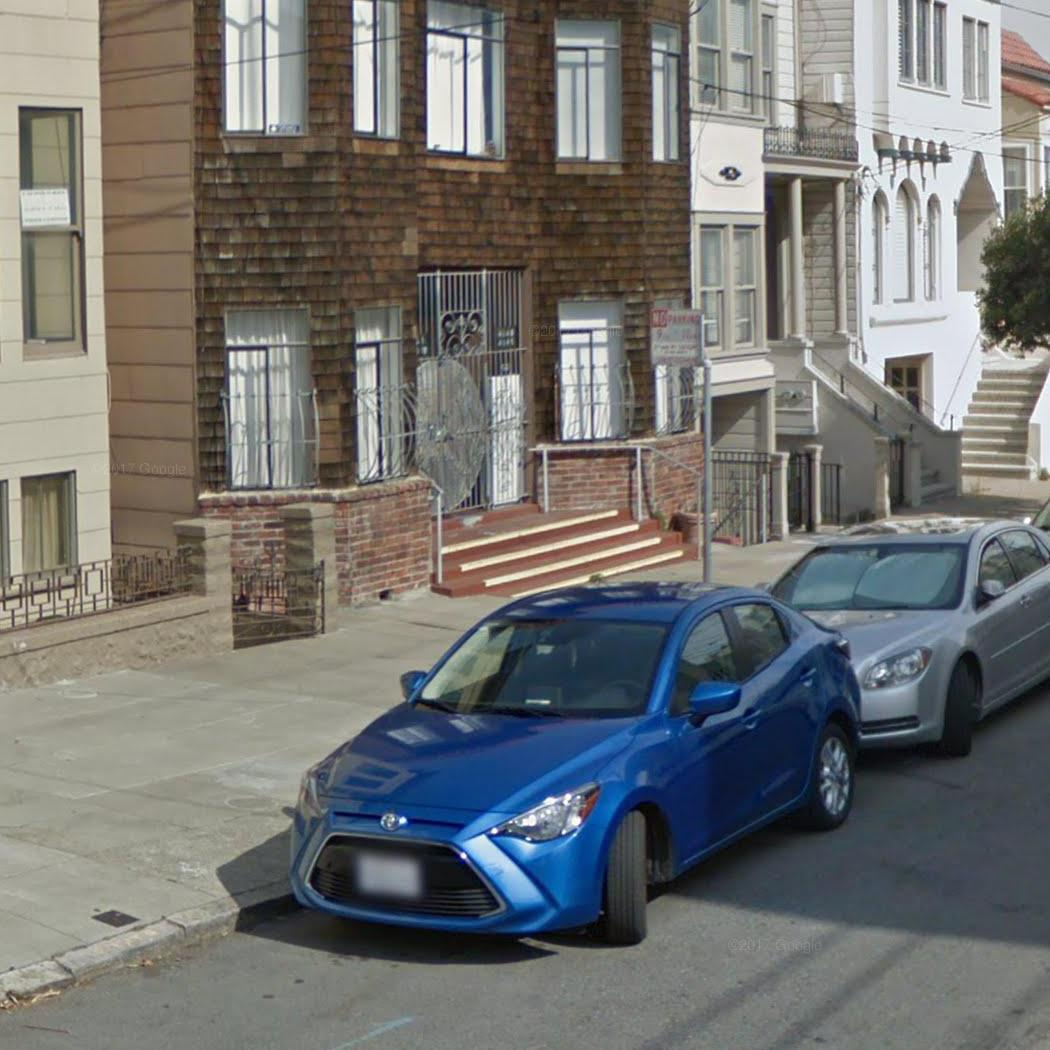No Parking: (647, 305, 707, 370)
